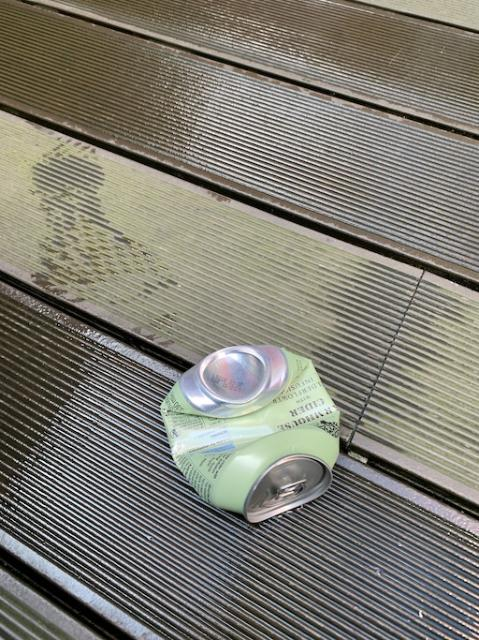metal: (160, 344, 338, 521)
